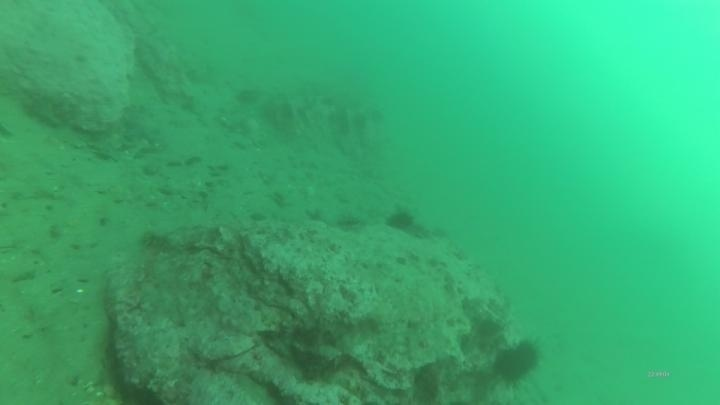echinus: (491, 346, 529, 385), (510, 337, 543, 375), (384, 205, 418, 235)
